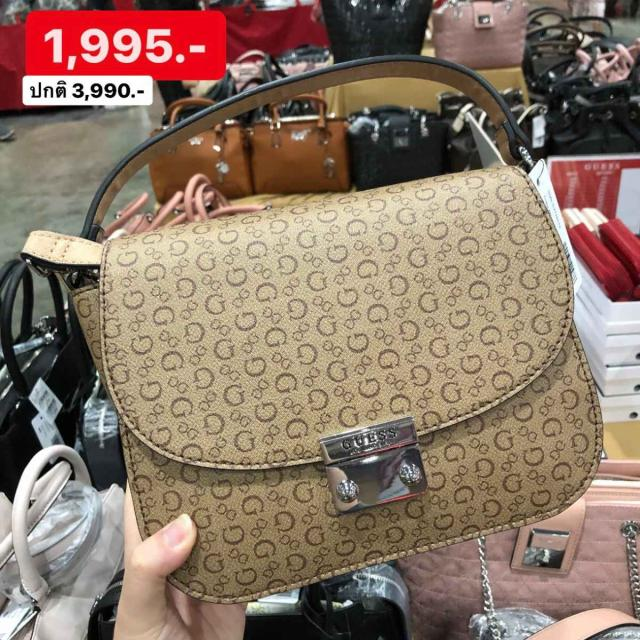handbag: (80, 175, 606, 613)
